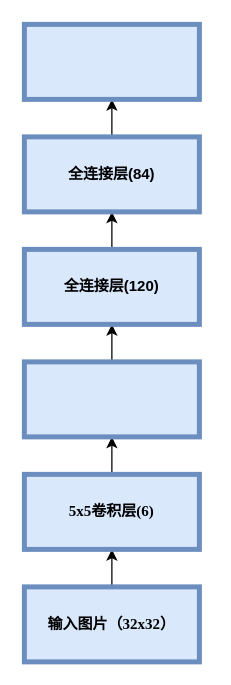
This 231x685 diagram has some shape labels left out. Here are the shapes that lost their labels. From the top down, the centre of each, then its label:
point (111, 61): 全连接层(10 )
point (111, 399): 2x2卷积层(16)，步幅2
